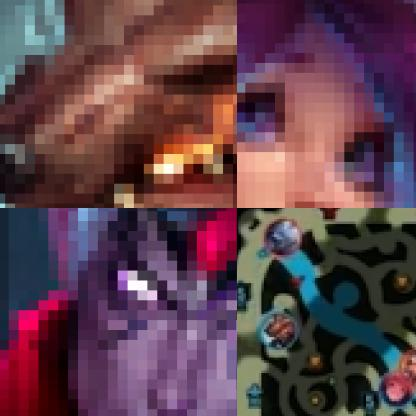Lillia: (237, 0, 415, 207)
Qiyana: (400, 346, 415, 387)
Udyr: (0, 0, 236, 207), (258, 308, 298, 352)
Varus: (0, 208, 236, 415)
Volibear: (265, 216, 304, 256)
Zoe: (379, 373, 413, 407)
